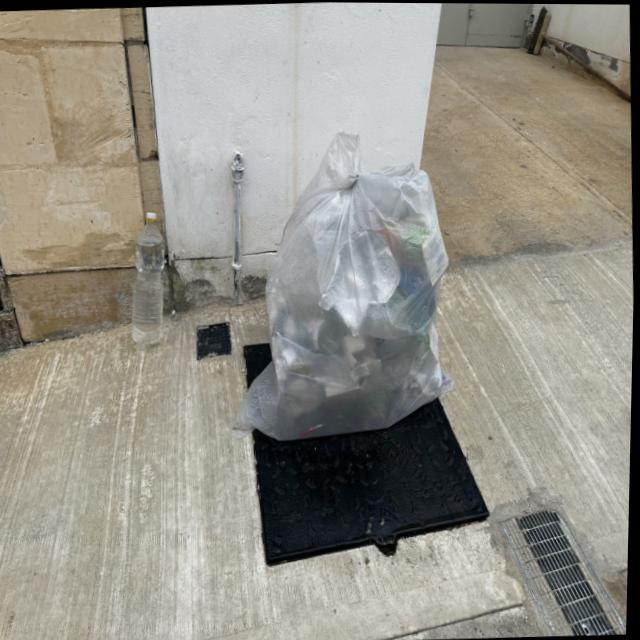Recyclable Material -Grey Bags-: (232, 128, 461, 441)
